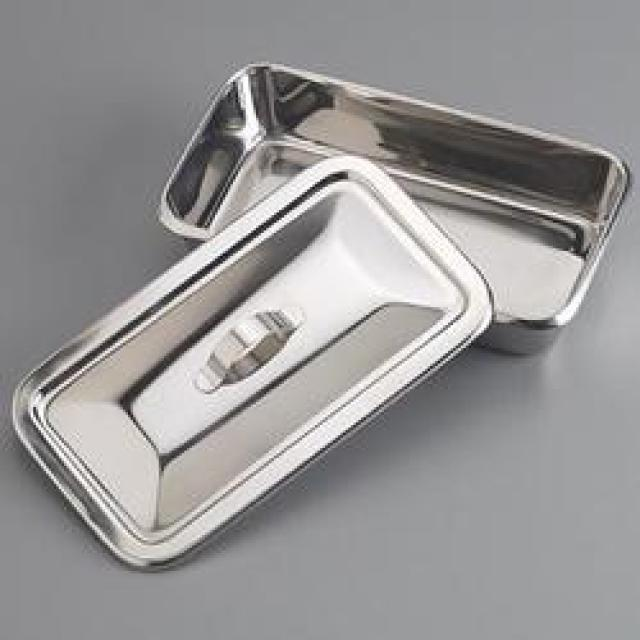Catheter Tray: (158, 22, 621, 366)
